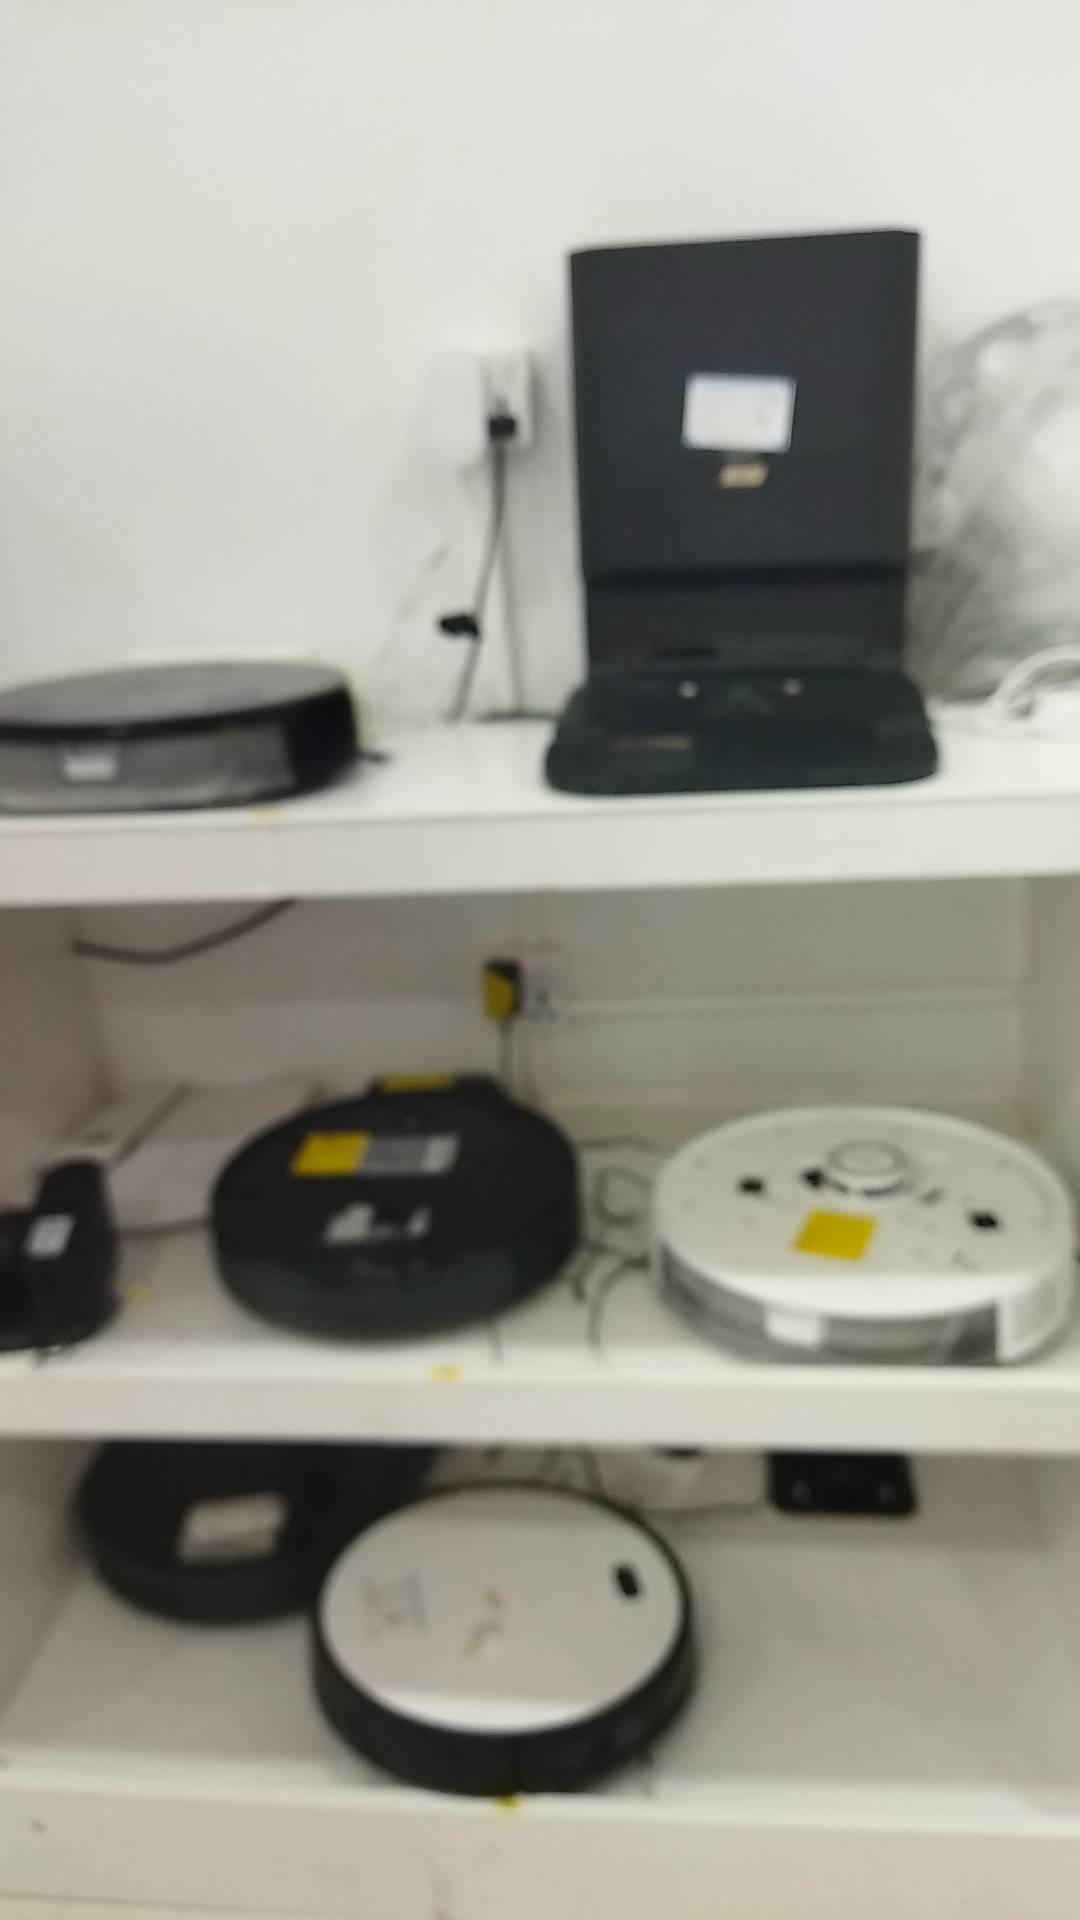dust collecting barrel: (545, 227, 945, 795)
recharge seat: (1, 1156, 123, 1361)
